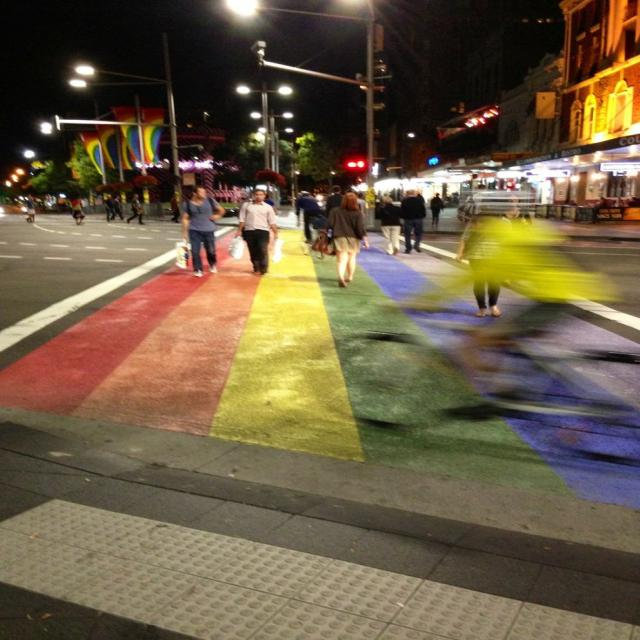body: (453, 204, 517, 318), (310, 192, 370, 288), (181, 184, 228, 279), (233, 188, 279, 277), (397, 187, 429, 255), (374, 194, 406, 257), (496, 191, 534, 227), (295, 190, 320, 244), (567, 196, 640, 208), (124, 193, 146, 226), (324, 185, 344, 218), (427, 192, 446, 226), (69, 194, 87, 227), (110, 195, 127, 222), (23, 193, 38, 223), (168, 192, 182, 224), (102, 193, 114, 223), (354, 191, 367, 217), (262, 193, 278, 210)
